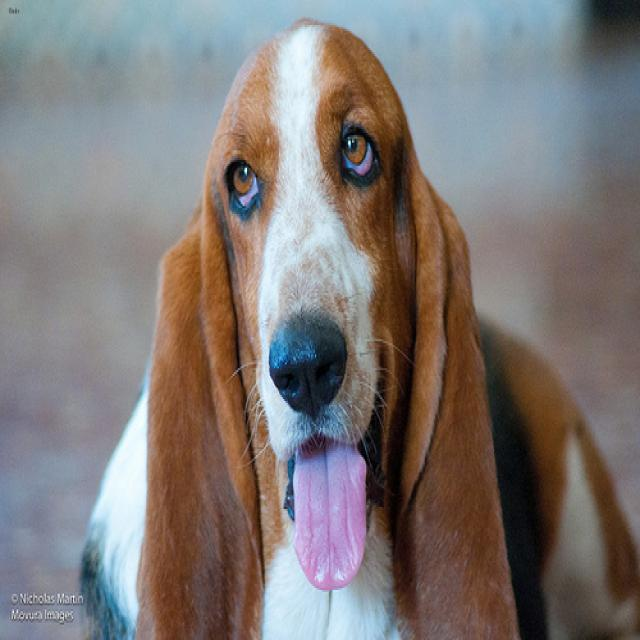dog-basset_hound: (67, 10, 637, 636)
